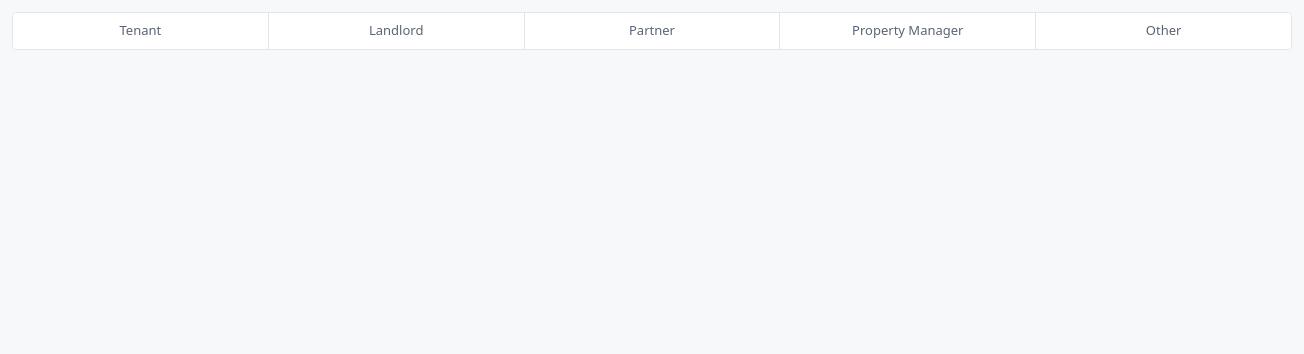
KindPicker › clicking Other after the Property Manager preset enters Other mode preserving the role
Click the button "Property Manager": (908, 31) [780, 13, 1036, 48]
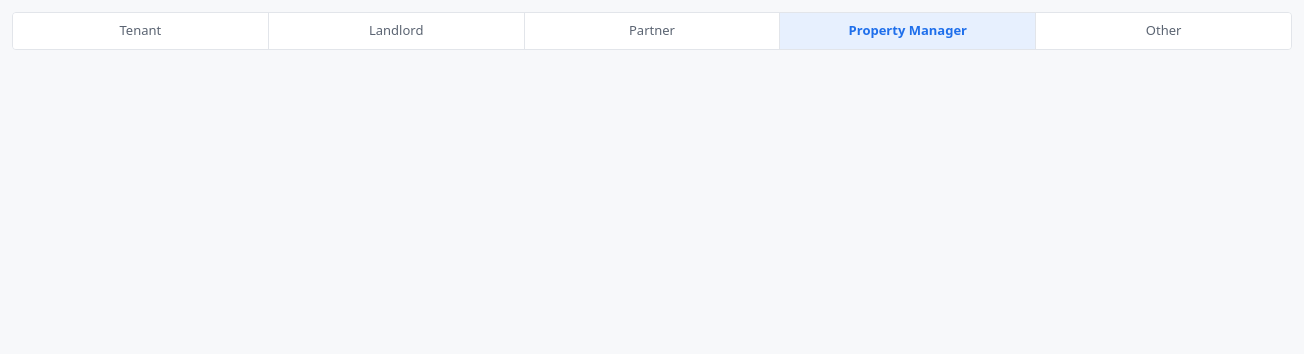
Expected: the field labelled "role" is not shown
Click the button "Other": (1164, 31) [1036, 13, 1291, 48]
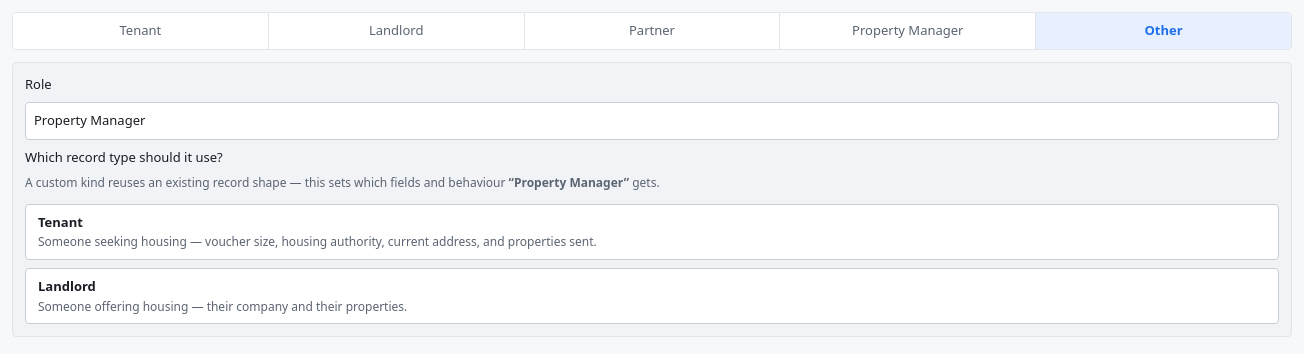
Now the field labelled "Role" holds "Property Manager", box [25, 102, 1279, 140]
